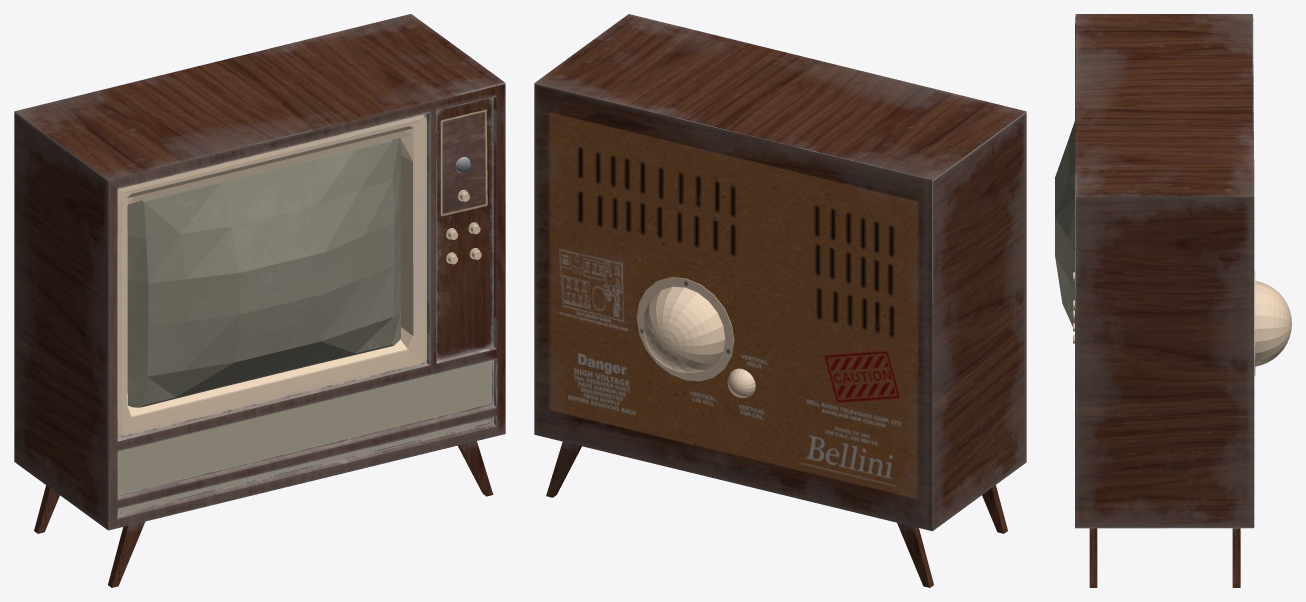
3 renders of one model, left to right at view 1: azimuth 30°, elevation 25°; view 2: azimuth 150°, elevation 25°; view 3: azimuth 270°, elevation 25°, orthographic. The views are drawn at different scales.
Visible parts, largest first — view 1: tv; view 2: tv; view 3: tv.
Boxes of the visible parts, x1=… form: tv: x1=14, y1=14, x2=505, y2=587; tv: x1=534, y1=14, x2=1026, y2=587; tv: x1=1055, y1=14, x2=1291, y2=587.
Size of the model in its own units: 0.5 by 0.5009 by 0.2734.
